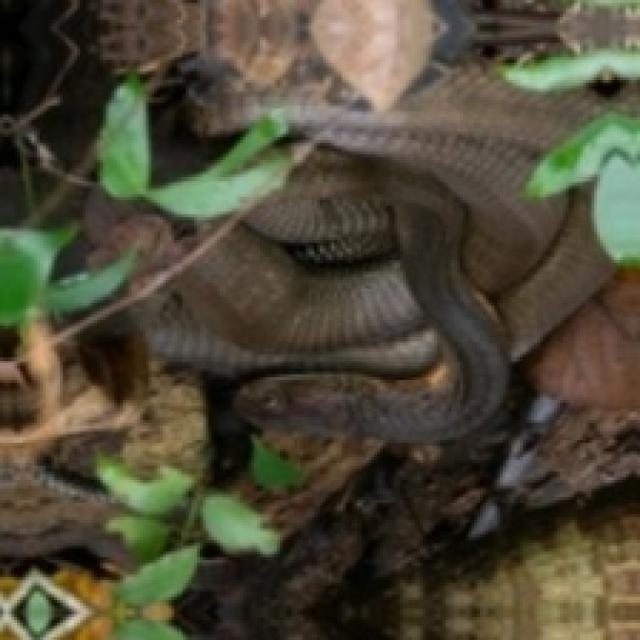king cobra: (131, 0, 637, 440), (200, 0, 294, 126)
